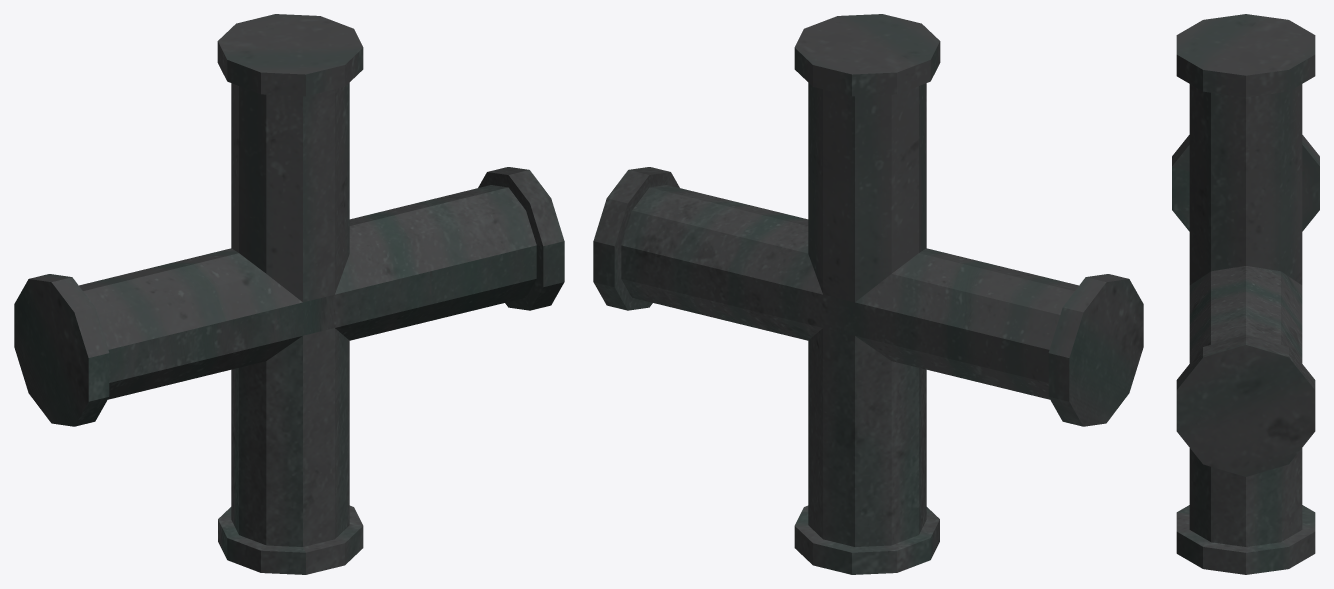
The model's file is Pipe Intersection Large.fbx.
3 renders of one model, left to right at view 1: azimuth 30°, elevation 25°; view 2: azimuth 150°, elevation 25°; view 3: azimuth 270°, elevation 25°, orthographic.
Parts seen in each view (by area): view 1: Intersection_L; view 2: Intersection_L; view 3: Intersection_L.
Boxes of the visible parts, left/top/right/bottom form: Intersection_L: left=14, top=14, right=564, bottom=574; Intersection_L: left=593, top=14, right=1143, bottom=574; Intersection_L: left=1172, top=14, right=1319, bottom=574.
Bounding box in the file's own units: 16.8 × 16.8 × 4.51.
1 material, 1 textured.
